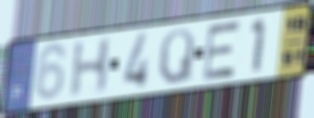1: (248, 16, 268, 76)
4: (120, 28, 152, 93)
6: (32, 40, 71, 105)
E: (200, 18, 245, 84)
H: (67, 35, 115, 101)
Q: (156, 27, 196, 87)
